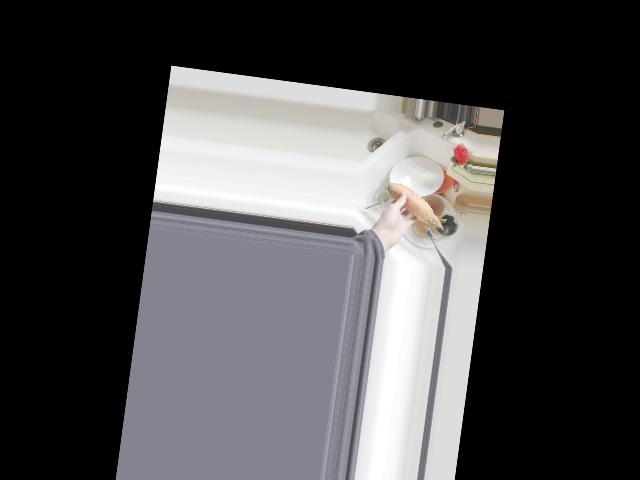sweet_potato: (381, 180, 447, 231)
